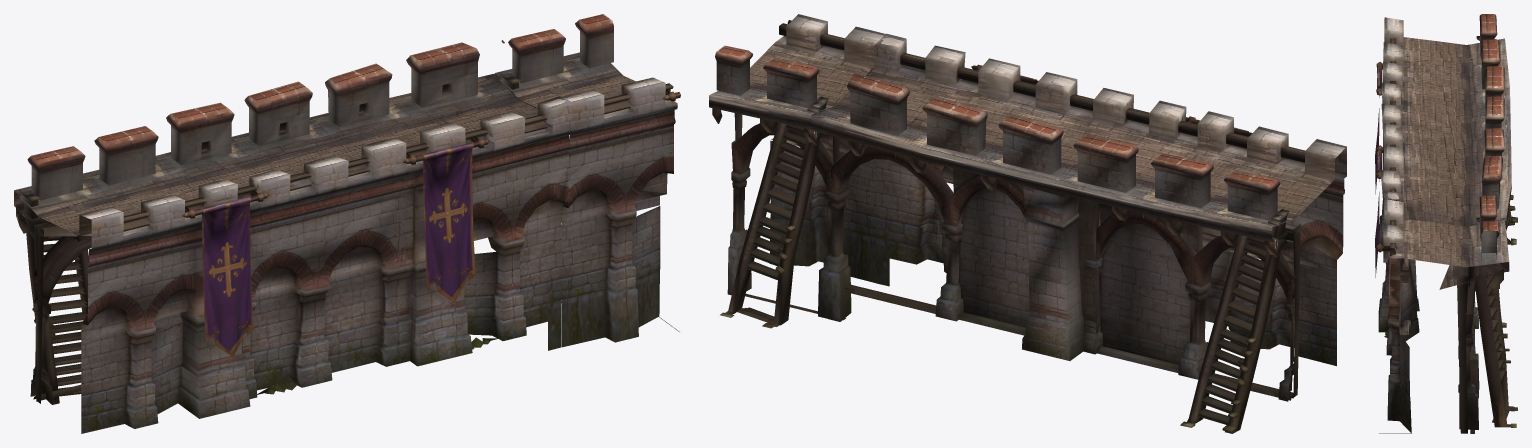
Rendered from WallRunFront_07.fbx.
The picture shows the model from 3 angles, left to right: view 1: azimuth 30°, elevation 25°; view 2: azimuth 150°, elevation 25°; view 3: azimuth 270°, elevation 25°; orthographic projection. The views are drawn at different scales.
Visible parts, largest first — view 1: WallRunFront_07; view 2: WallRunFront_07; view 3: WallRunFront_07.
Boxes of the visible parts, left/top/right/bottom form: WallRunFront_07: left=14, top=14, right=680, bottom=433; WallRunFront_07: left=709, top=14, right=1346, bottom=433; WallRunFront_07: left=1375, top=14, right=1517, bottom=433.
Bounding box in the file's own units: 1490 × 650 × 407.
1 material, 1 textured.
